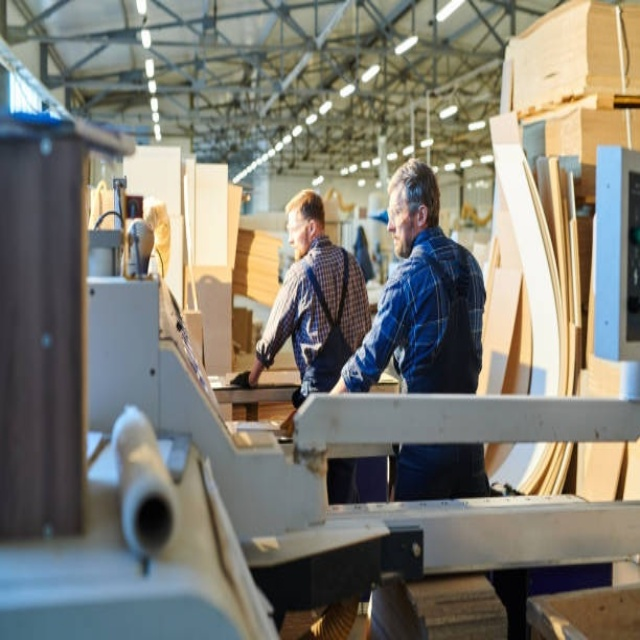Gafas: (387, 193, 421, 226)
Sin_mascara: (390, 227, 407, 253), (290, 238, 305, 257)
